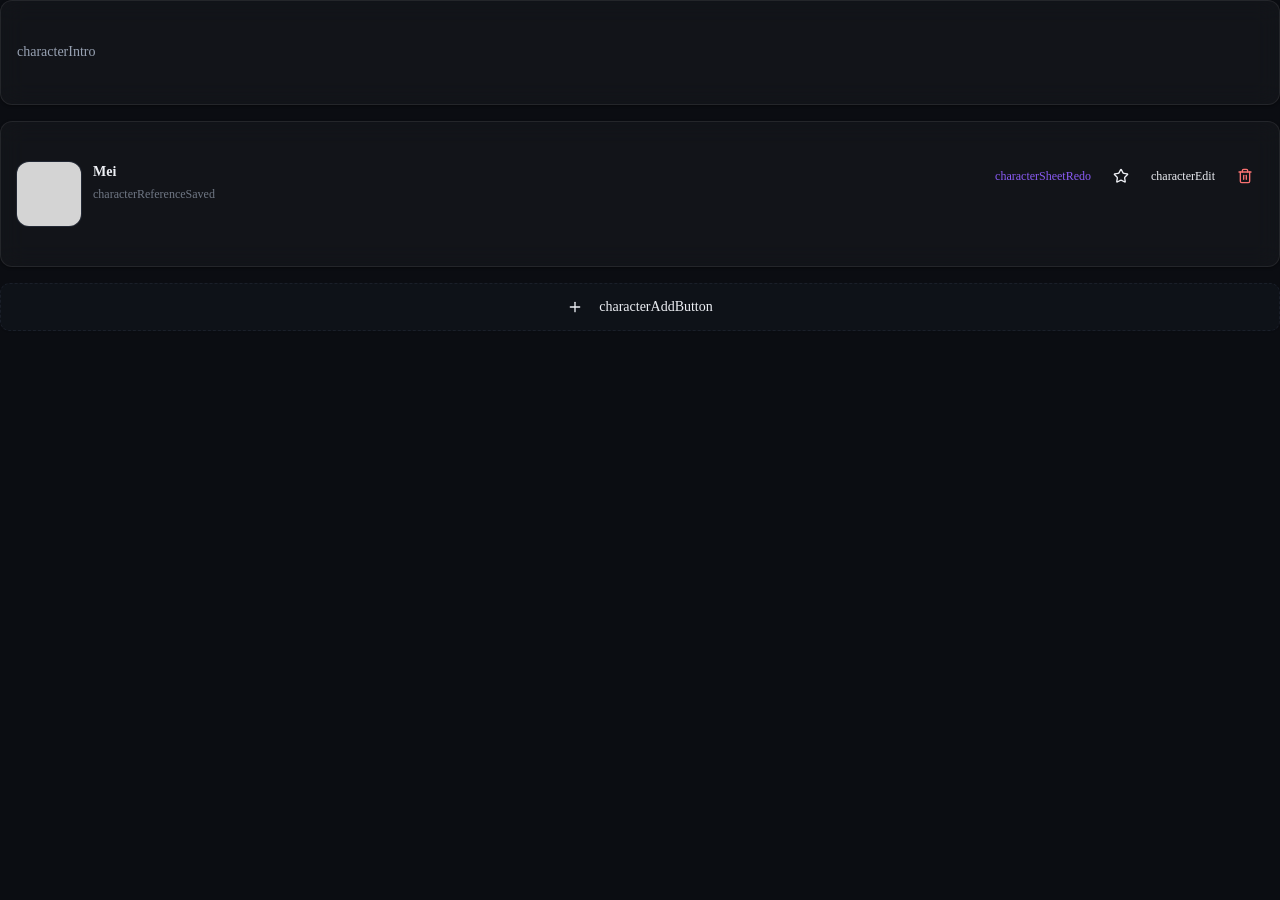
presenter reference photos › allows removing all photos and requires an appearance before generating without them
Click the button "characterEdit" at {"x": 1183, "y": 176}, box [1143, 162, 1223, 190]
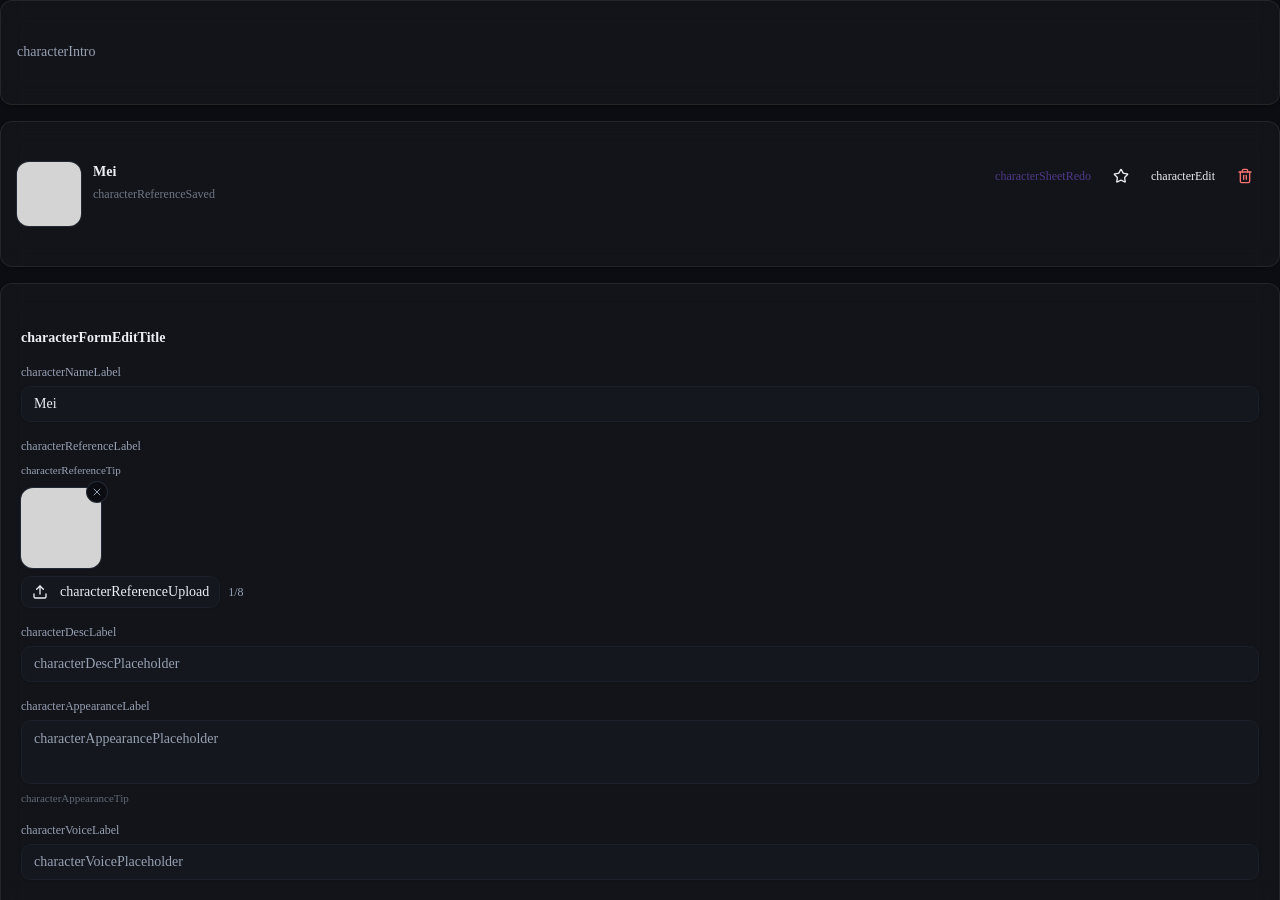
Click the button named "characterReferenceRemove" at {"x": 97, "y": 492}, box [87, 482, 107, 502]
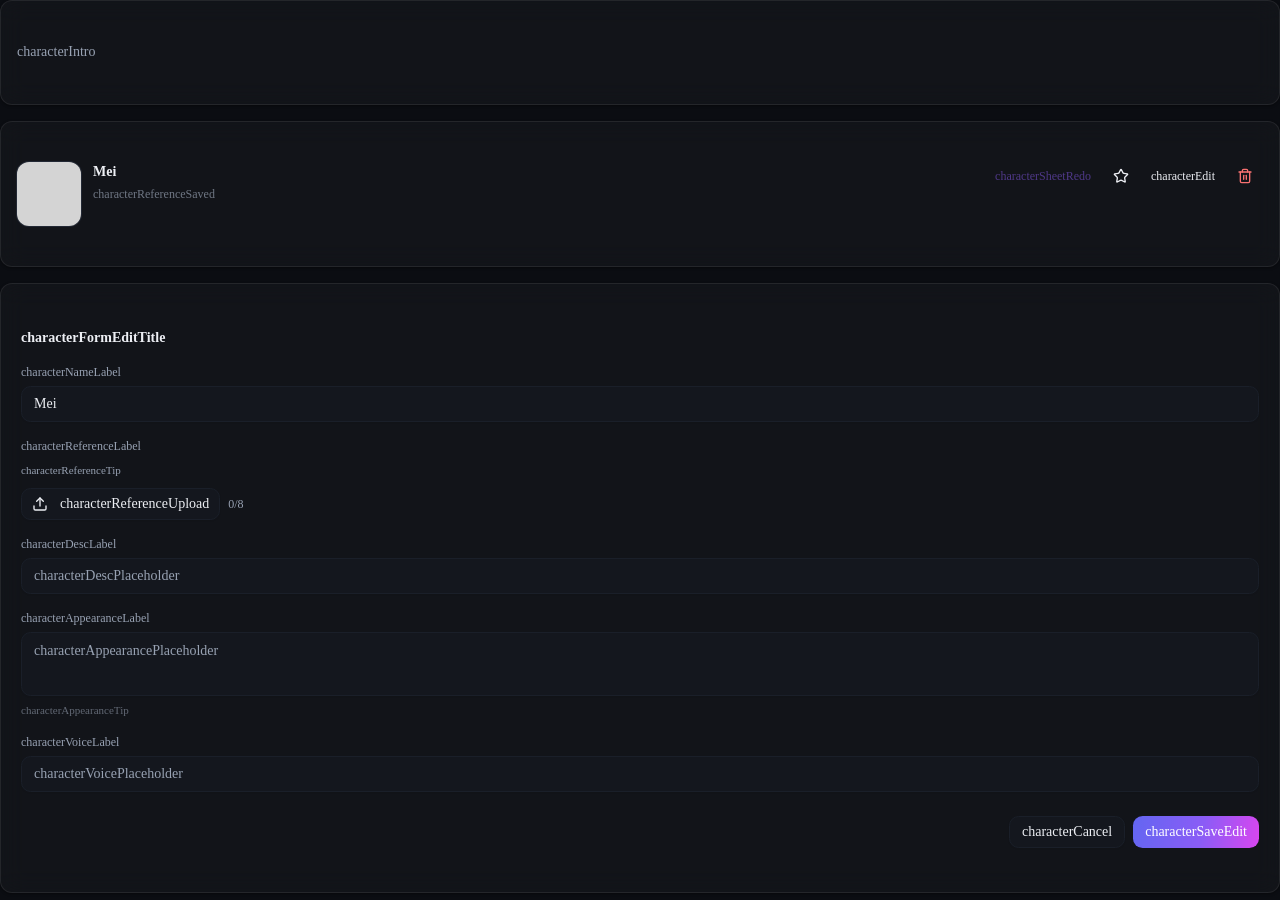
Click the button "characterSaveEdit" at {"x": 1196, "y": 832}, box [1133, 816, 1259, 848]
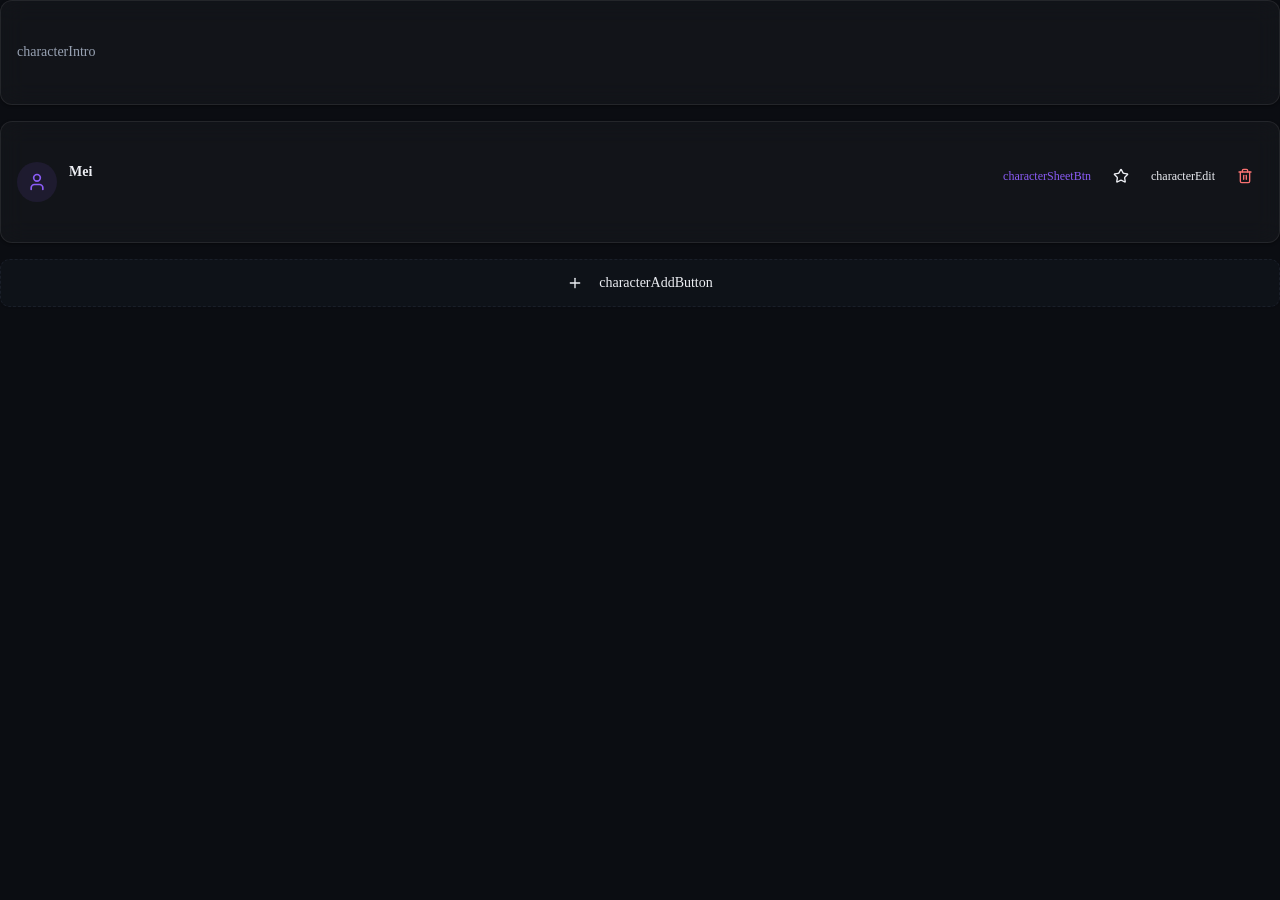
Click the button "characterSheetBtn" at {"x": 1047, "y": 176}, box [995, 162, 1099, 190]
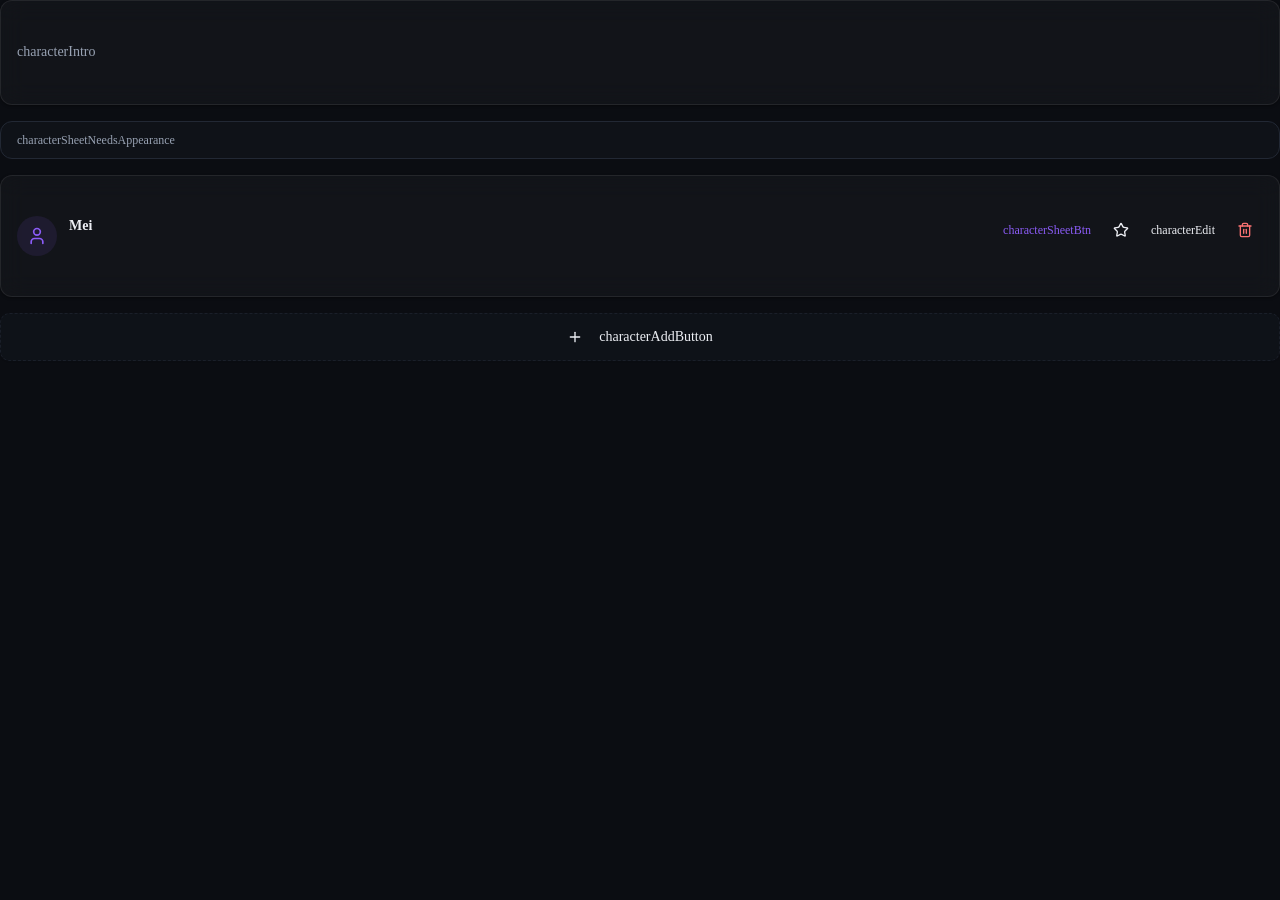
Check: the text "characterSheetNeedsAppearance" is shown, box [0, 121, 1279, 159]
